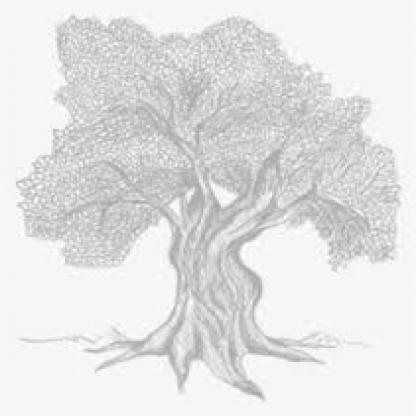crown_dizzy: (17, 14, 401, 272)
root_upside: (86, 326, 336, 404)
trunk_reflex: (164, 241, 263, 322)
